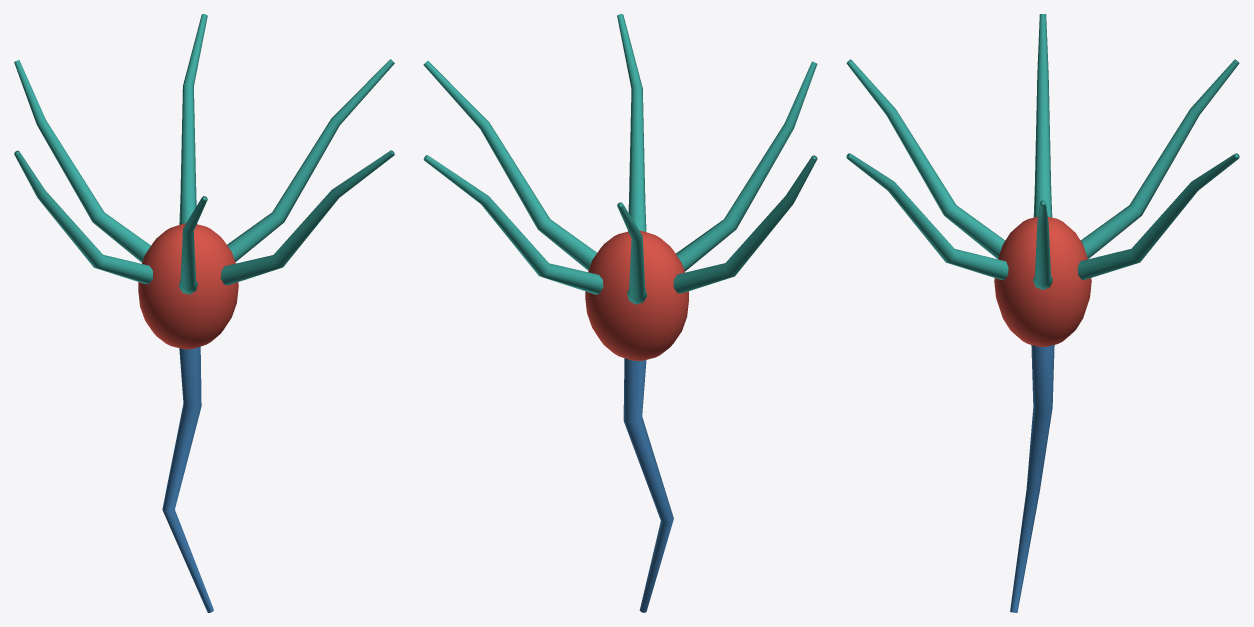
The model's file is neuron.glb.
3 renders of one model, left to right at view 1: azimuth 30°, elevation 25°; view 2: azimuth 150°, elevation 25°; view 3: azimuth 270°, elevation 25°, orthographic. The views are drawn at different scales.
Parts seen in each view (by area): view 1: neuron.dendrites, neuron.soma, neuron.axon; view 2: neuron.dendrites, neuron.soma, neuron.axon; view 3: neuron.dendrites, neuron.soma, neuron.axon.
Part boxes in pixels (bbox=[...]): neuron.dendrites: bbox=[14, 14, 394, 294]; neuron.soma: bbox=[138, 223, 238, 349]; neuron.axon: bbox=[162, 346, 213, 612]; neuron.dendrites: bbox=[423, 14, 817, 304]; neuron.soma: bbox=[585, 230, 688, 360]; neuron.axon: bbox=[623, 358, 673, 612]; neuron.dendrites: bbox=[846, 14, 1239, 289]; neuron.soma: bbox=[994, 216, 1091, 346]; neuron.axon: bbox=[1010, 345, 1054, 612].
Bounding box in the file's own units: 4.65 × 5.79 × 4.04.
